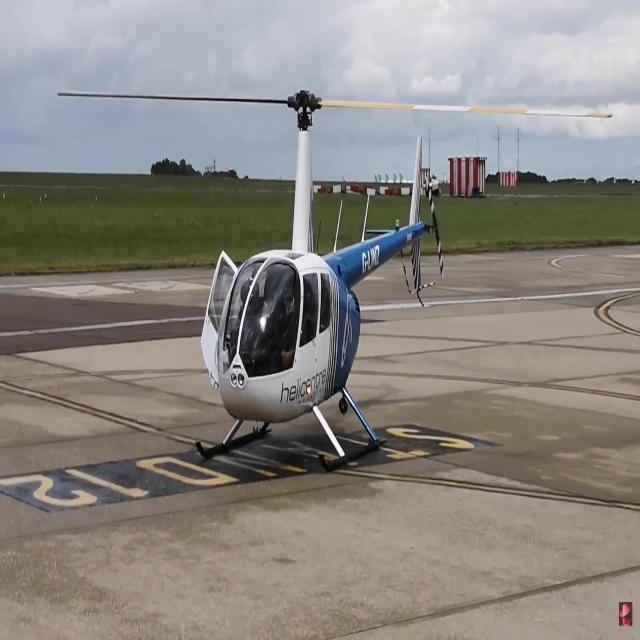CIV_HELO: (193, 86, 448, 476)
